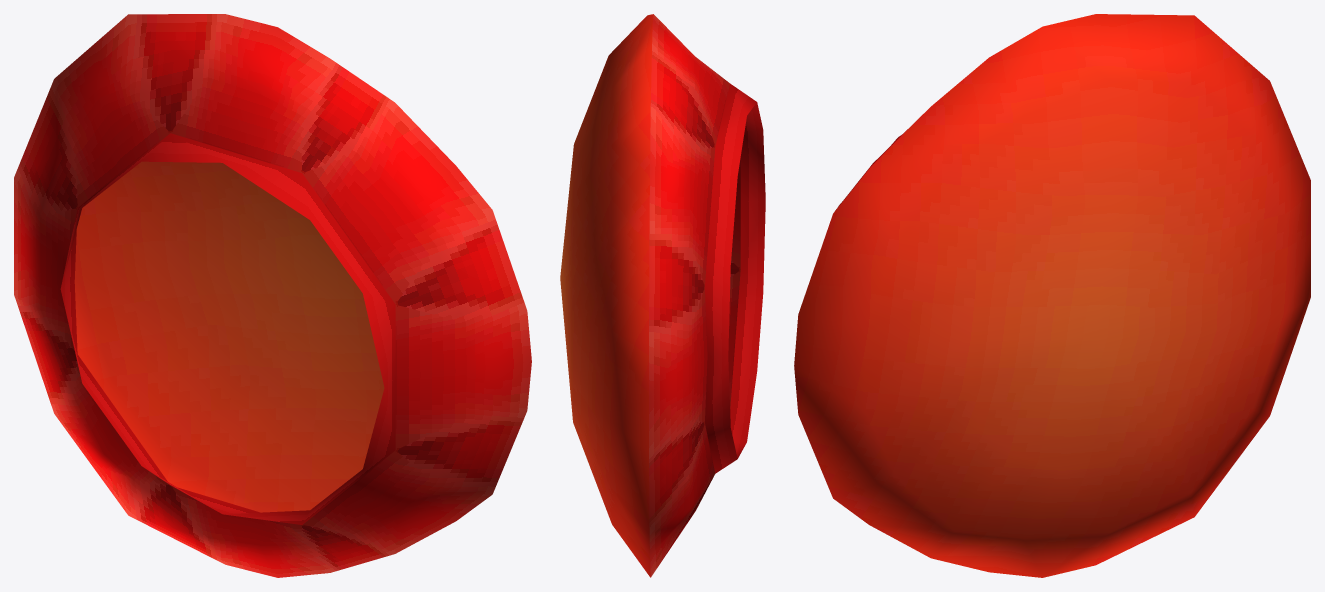
File: cap_beret_daikoku.dae
3 views of the same model, side by side, from view 1: azimuth 30°, elevation 25°; view 2: azimuth 150°, elevation 25°; view 3: azimuth 270°, elevation 25° (orthographic). The views are drawn at different scales.
Visible parts, largest first — view 1: cap_beret_daikoku; view 2: cap_beret_daikoku; view 3: cap_beret_daikoku.
Boxes of the visible parts, x1,y1,x2,y2 form: cap_beret_daikoku: (14, 14, 531, 577); cap_beret_daikoku: (560, 14, 765, 577); cap_beret_daikoku: (794, 14, 1310, 577).
Bounding box in the file's own units: 18.06 × 33.13 × 28.14.
Materials: 2 (2 with a texture image).
